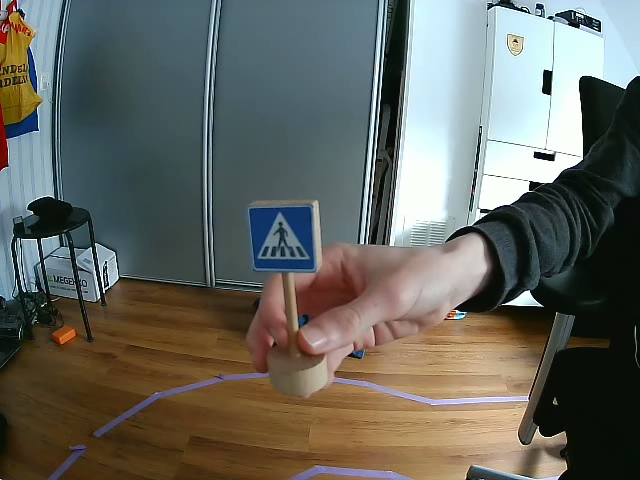zebrapad: (254, 205, 313, 273)
